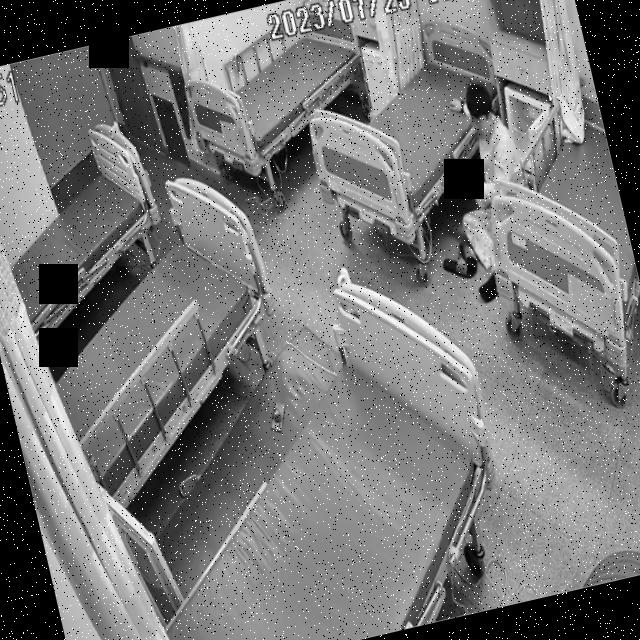bed: (99, 269, 521, 640), (12, 168, 306, 507), (459, 74, 640, 390), (289, 18, 522, 238), (0, 115, 180, 343), (178, 3, 379, 183)
fall: (431, 76, 544, 294)
patient: (430, 70, 544, 296)
